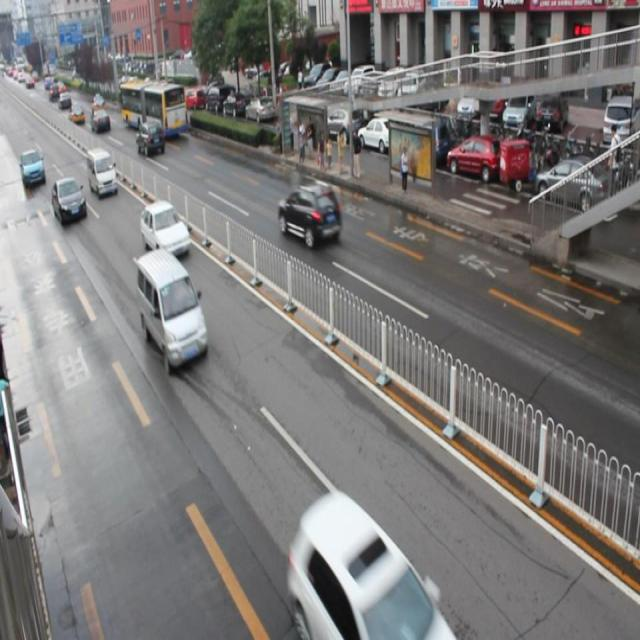car: (293, 493, 450, 640), (277, 183, 340, 250), (140, 200, 190, 256), (52, 178, 87, 224), (136, 118, 163, 157)
truck: (137, 248, 208, 368), (86, 148, 118, 198)
van: (120, 78, 188, 139)
